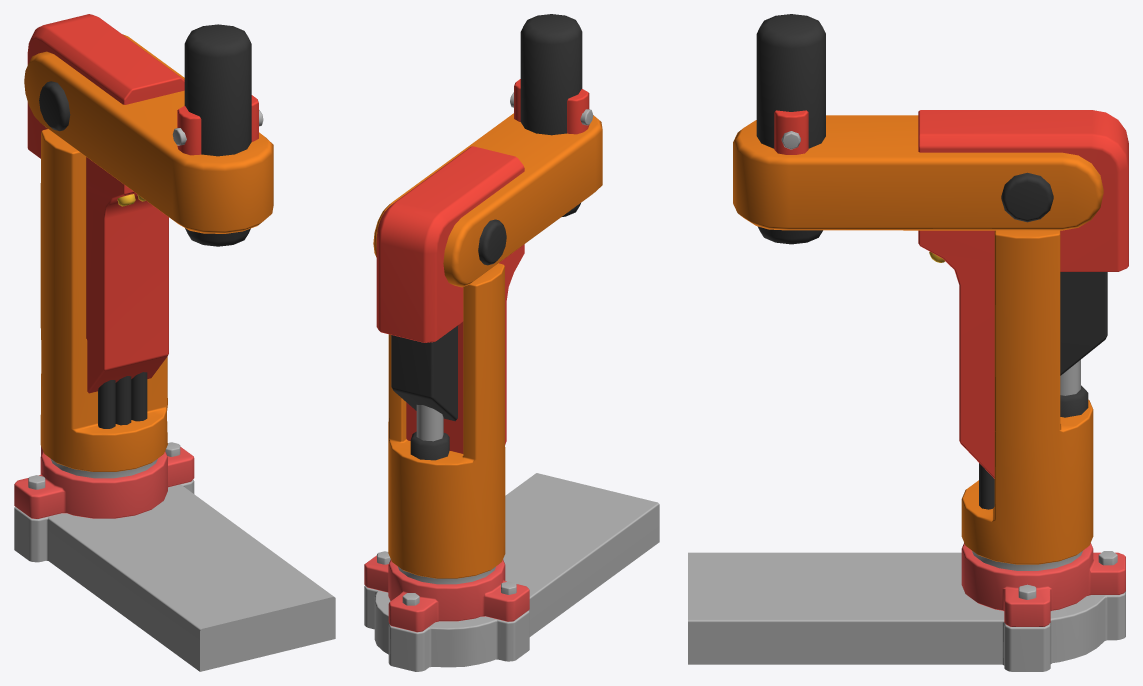
The model's file is obstacle_12_001.fbx.
The picture shows the model from 3 angles, left to right: view 1: azimuth 30°, elevation 25°; view 2: azimuth 150°, elevation 25°; view 3: azimuth 270°, elevation 25°; orthographic projection. The views are drawn at different scales.
Parts seen in each view (by area): view 1: obstacle_12_001; view 2: obstacle_12_001; view 3: obstacle_12_001.
Part boxes in pixels (left/top/right/bottom): obstacle_12_001: left=14, top=14, right=335, bottom=671; obstacle_12_001: left=364, top=14, right=659, bottom=671; obstacle_12_001: left=688, top=14, right=1128, bottom=671.
Bounding box in the file's own units: 299 × 668 × 1013.
